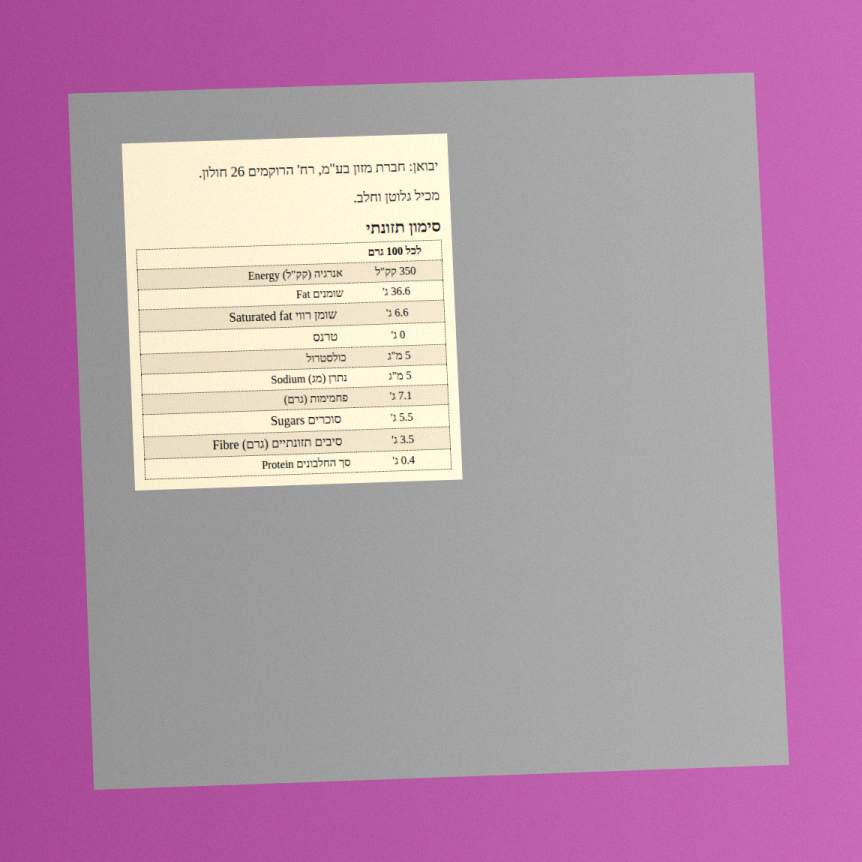carbs: (388, 388, 414, 403)
energy: (373, 263, 418, 279)
fat: (381, 283, 412, 299)
protein: (391, 452, 417, 468)
